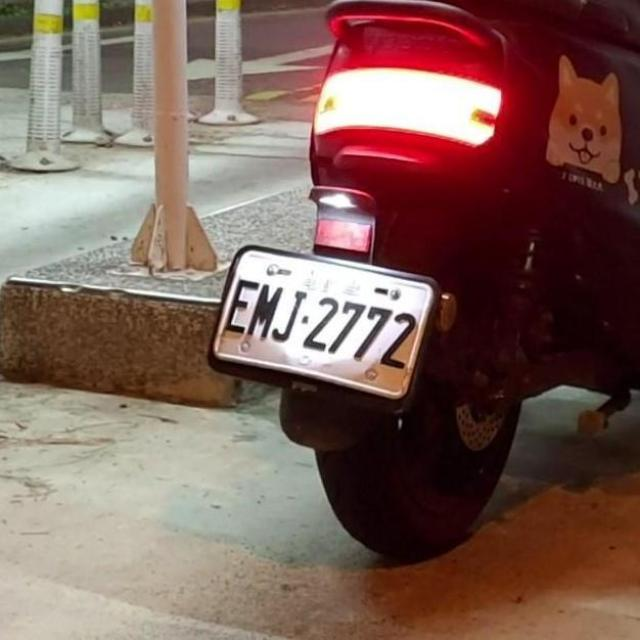W: (210, 234, 438, 401)
